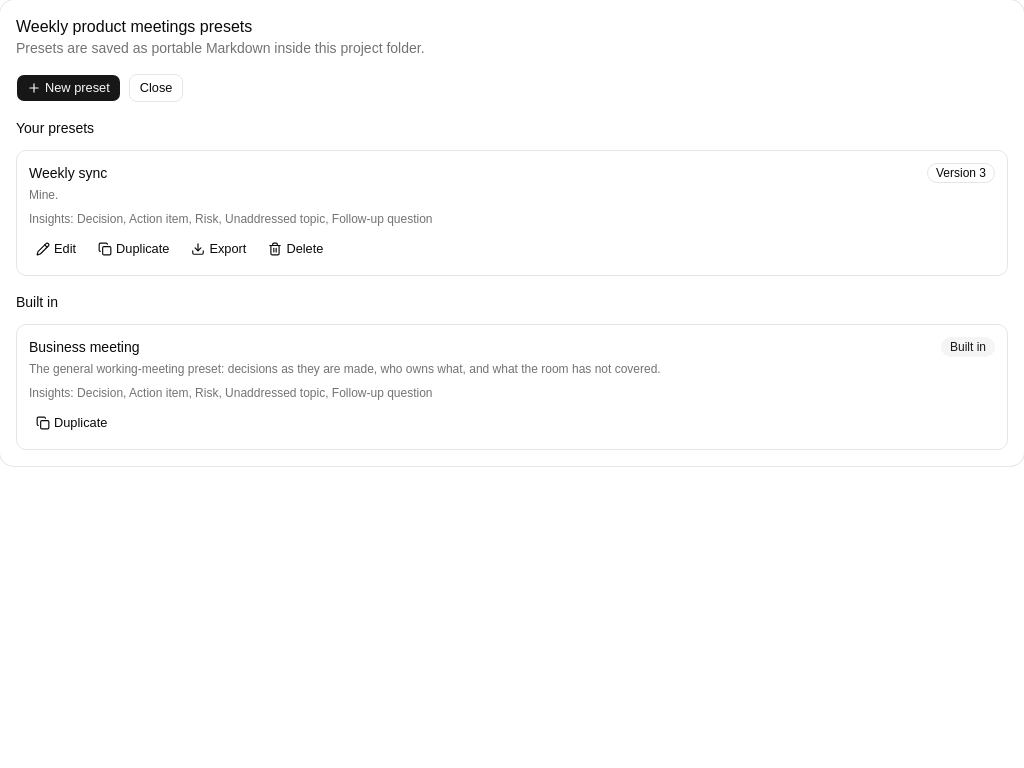
Scenario: ProjectPresets › shows a refused operation as a sanitized panel
This screenshot has width=1024, height=768.
Click the button "Duplicate" below "Business meeting" at (74, 423), box x1=29 y1=409 x2=118 y2=437
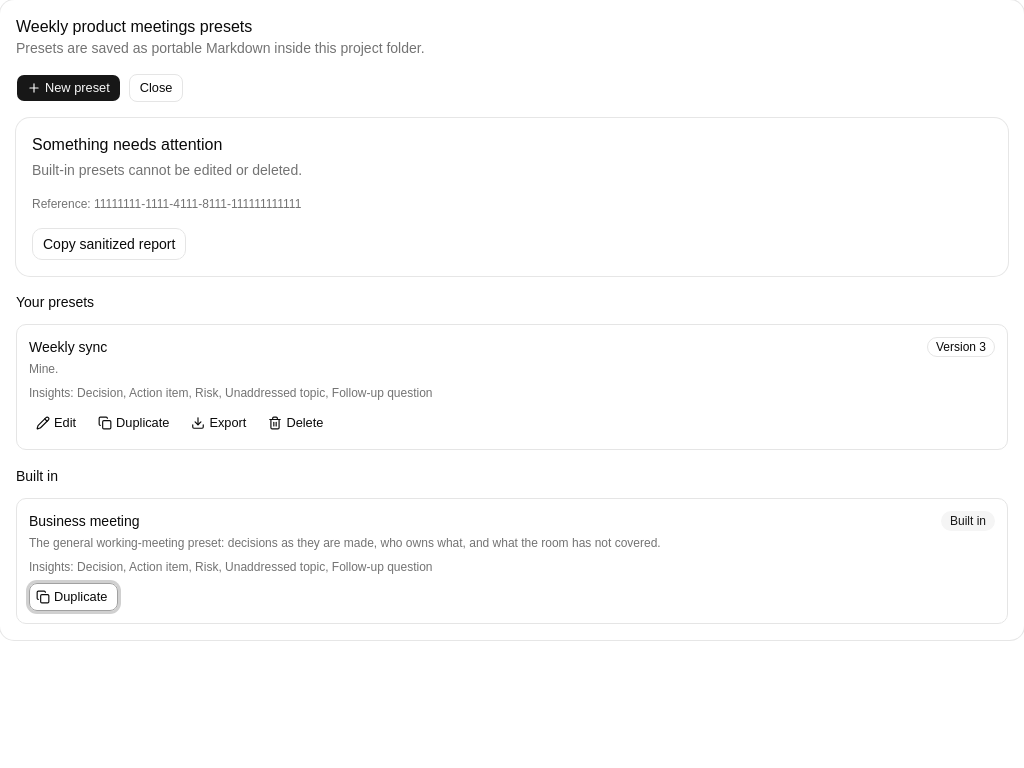
Now the text "Built-in presets cannot be edited or deleted." is shown, box x1=32 y1=162 x2=302 y2=178
